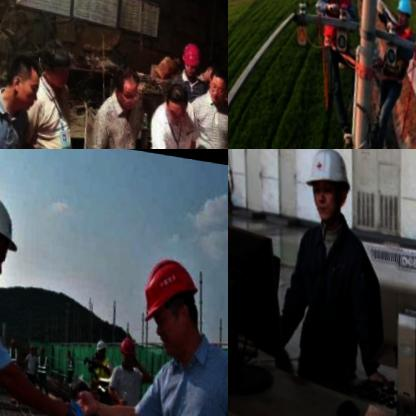helmet: (125, 234, 215, 367), (293, 149, 357, 226), (0, 176, 28, 286), (172, 38, 203, 77), (112, 329, 139, 368), (388, 0, 415, 27), (88, 332, 109, 359)
